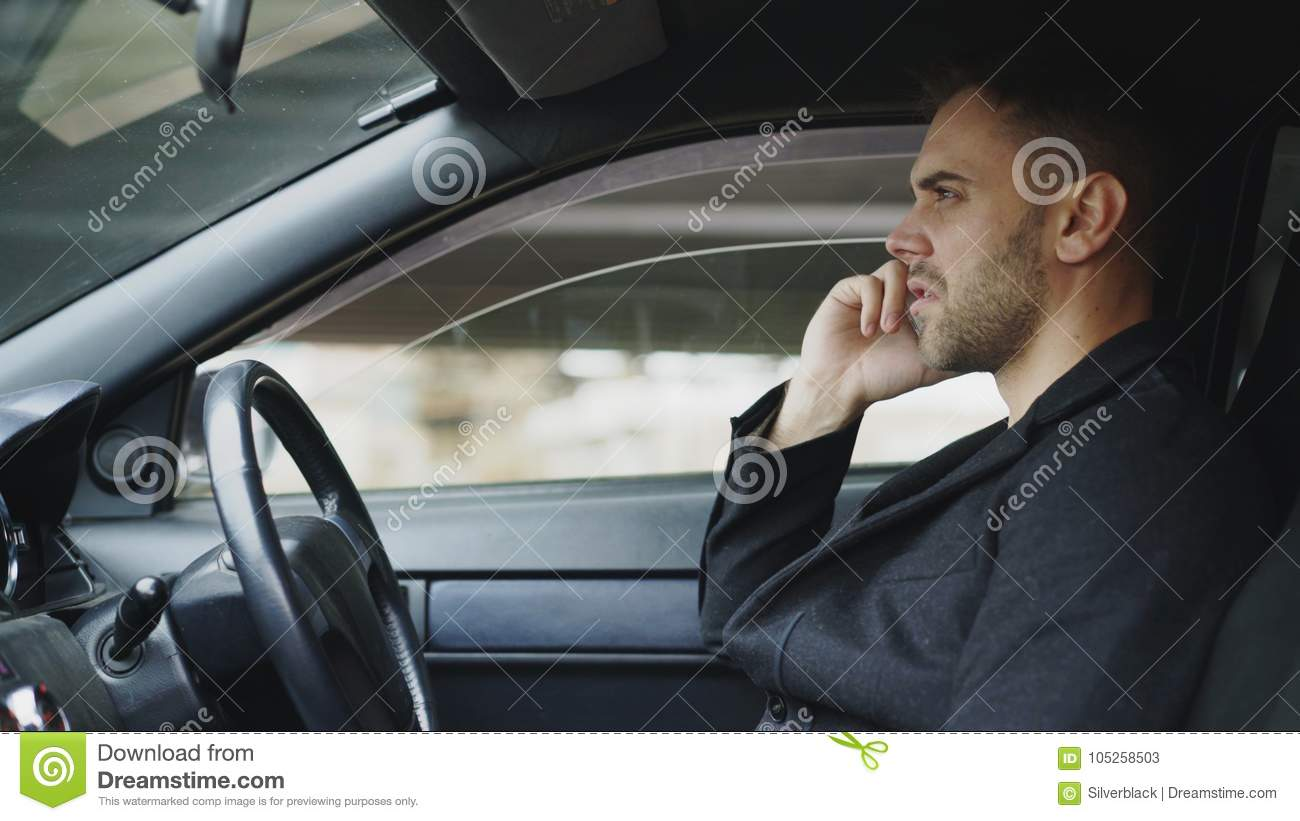talk: (799, 147, 999, 418)
